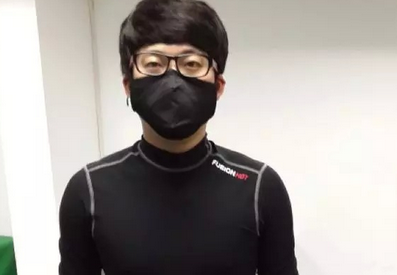face_mask: (127, 37, 219, 132)
